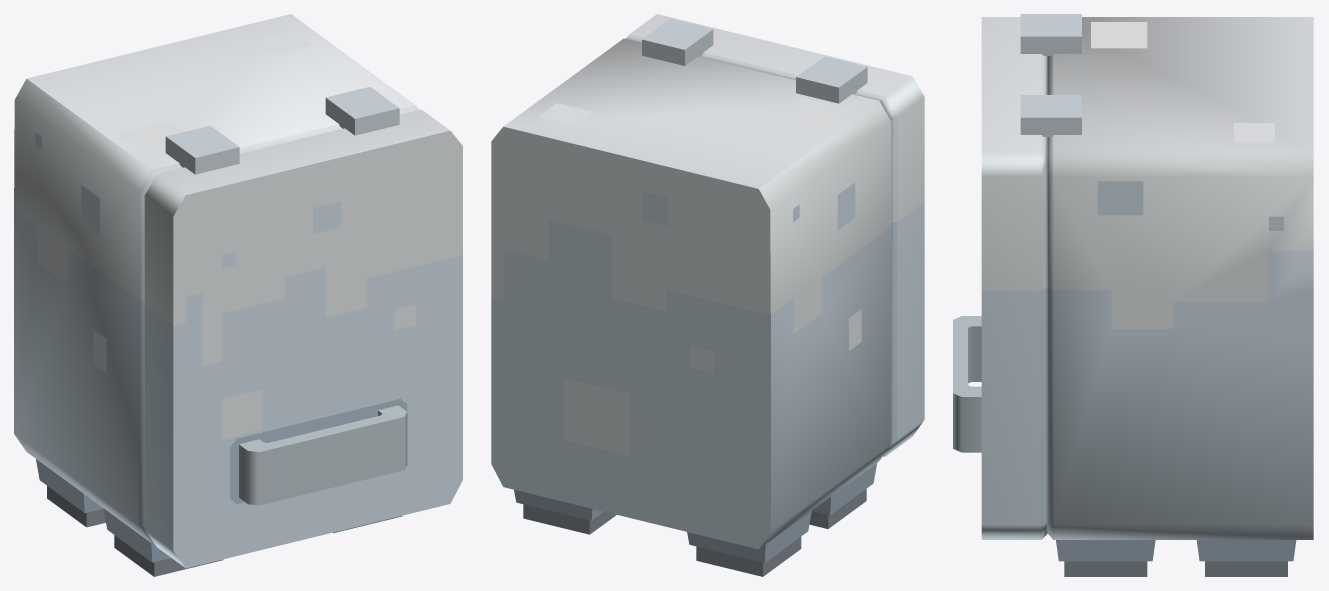
The model's file is pvpd_ChillyIcemaker_01.obj.
3 views of the same model, side by side, from view 1: azimuth 30°, elevation 25°; view 2: azimuth 150°, elevation 25°; view 3: azimuth 270°, elevation 25° (orthographic). The views are drawn at different scales.
Visible parts, largest first — view 1: pvpd_ChillyIcemaker_01_Door, pvpd_ChillyIcemaker_01; view 2: pvpd_ChillyIcemaker_01, pvpd_ChillyIcemaker_01_Door; view 3: pvpd_ChillyIcemaker_01, pvpd_ChillyIcemaker_01_Door.
Boxes of the visible parts, bbox=[...] form: pvpd_ChillyIcemaker_01_Door: bbox=[144, 109, 462, 568]; pvpd_ChillyIcemaker_01: bbox=[14, 14, 419, 576]; pvpd_ChillyIcemaker_01: bbox=[491, 18, 891, 576]; pvpd_ChillyIcemaker_01_Door: bbox=[626, 14, 924, 456]; pvpd_ChillyIcemaker_01: bbox=[1020, 14, 1313, 576]; pvpd_ChillyIcemaker_01_Door: bbox=[953, 17, 1047, 539].
Size of the model in its own units: 3.01 by 4.24 by 3.11.
